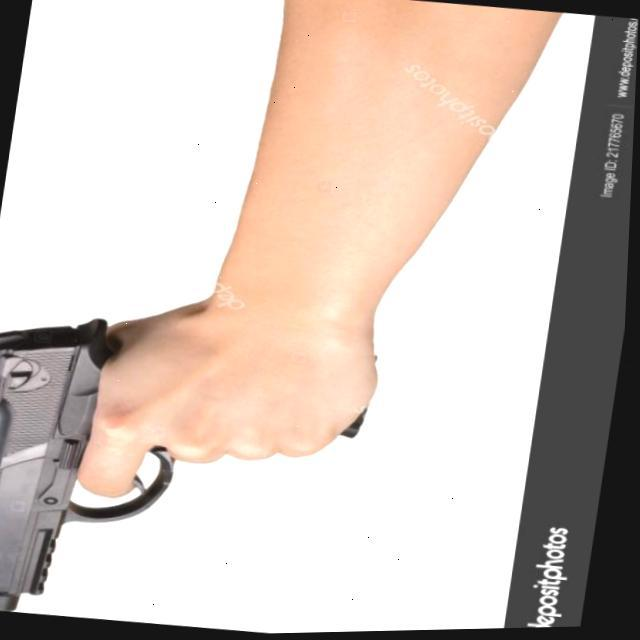gun: (0, 301, 378, 640)
